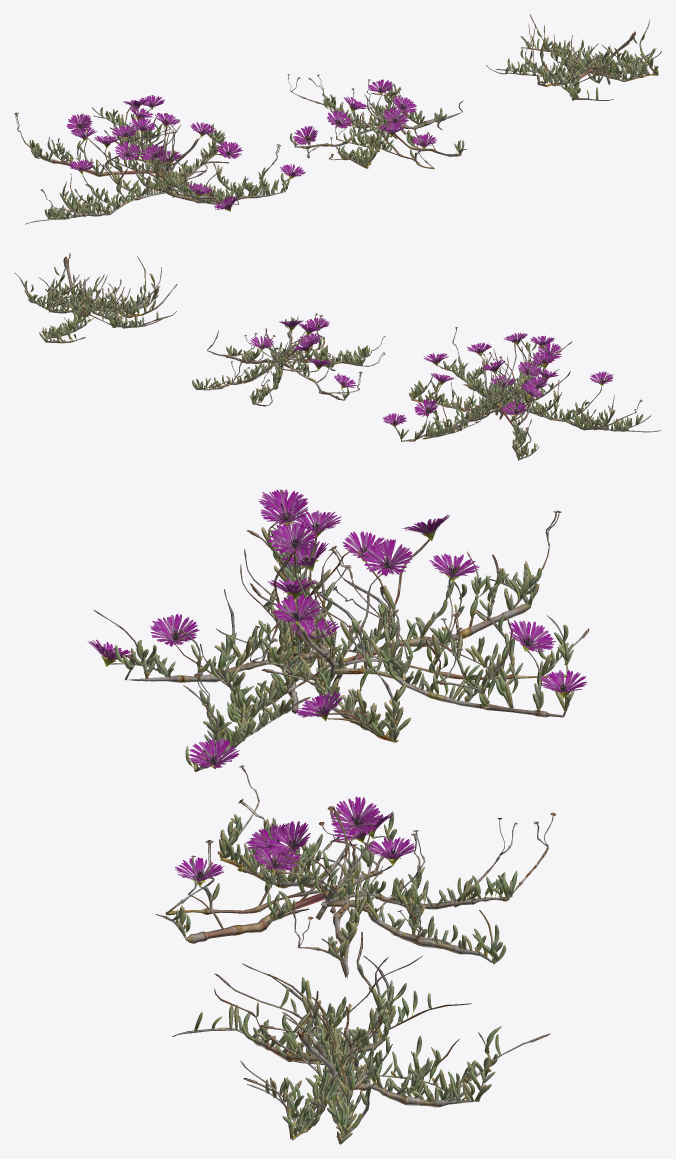
Rendered from leipoldtia_schultzei.glb.
3 renders of one model, top to bottom at view 1: azimuth 30°, elevation 25°; view 2: azimuth 150°, elevation 25°; view 3: azimuth 270°, elevation 25°, orthographic. The views are drawn at different scales.
Visible parts, largest first — view 1: leipoldtia_schultzei_Large_LOD0; view 2: leipoldtia_schultzei_Large_LOD0; view 3: leipoldtia_schultzei_Large_LOD0.
Part boxes in pixels (x1=…): leipoldtia_schultzei_Large_LOD0: x1=14, y1=14, x2=661, y2=224; leipoldtia_schultzei_Large_LOD0: x1=14, y1=253, x2=661, y2=460; leipoldtia_schultzei_Large_LOD0: x1=87, y1=489, x2=589, y2=1144.
Size of the model in its own units: 2.31 by 0.3172 by 0.8097.
1 material, 1 textured.
